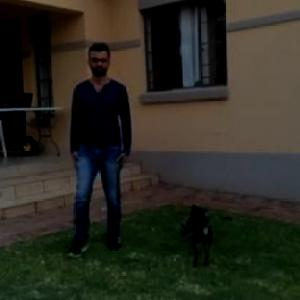follow: (65, 41, 134, 254)
